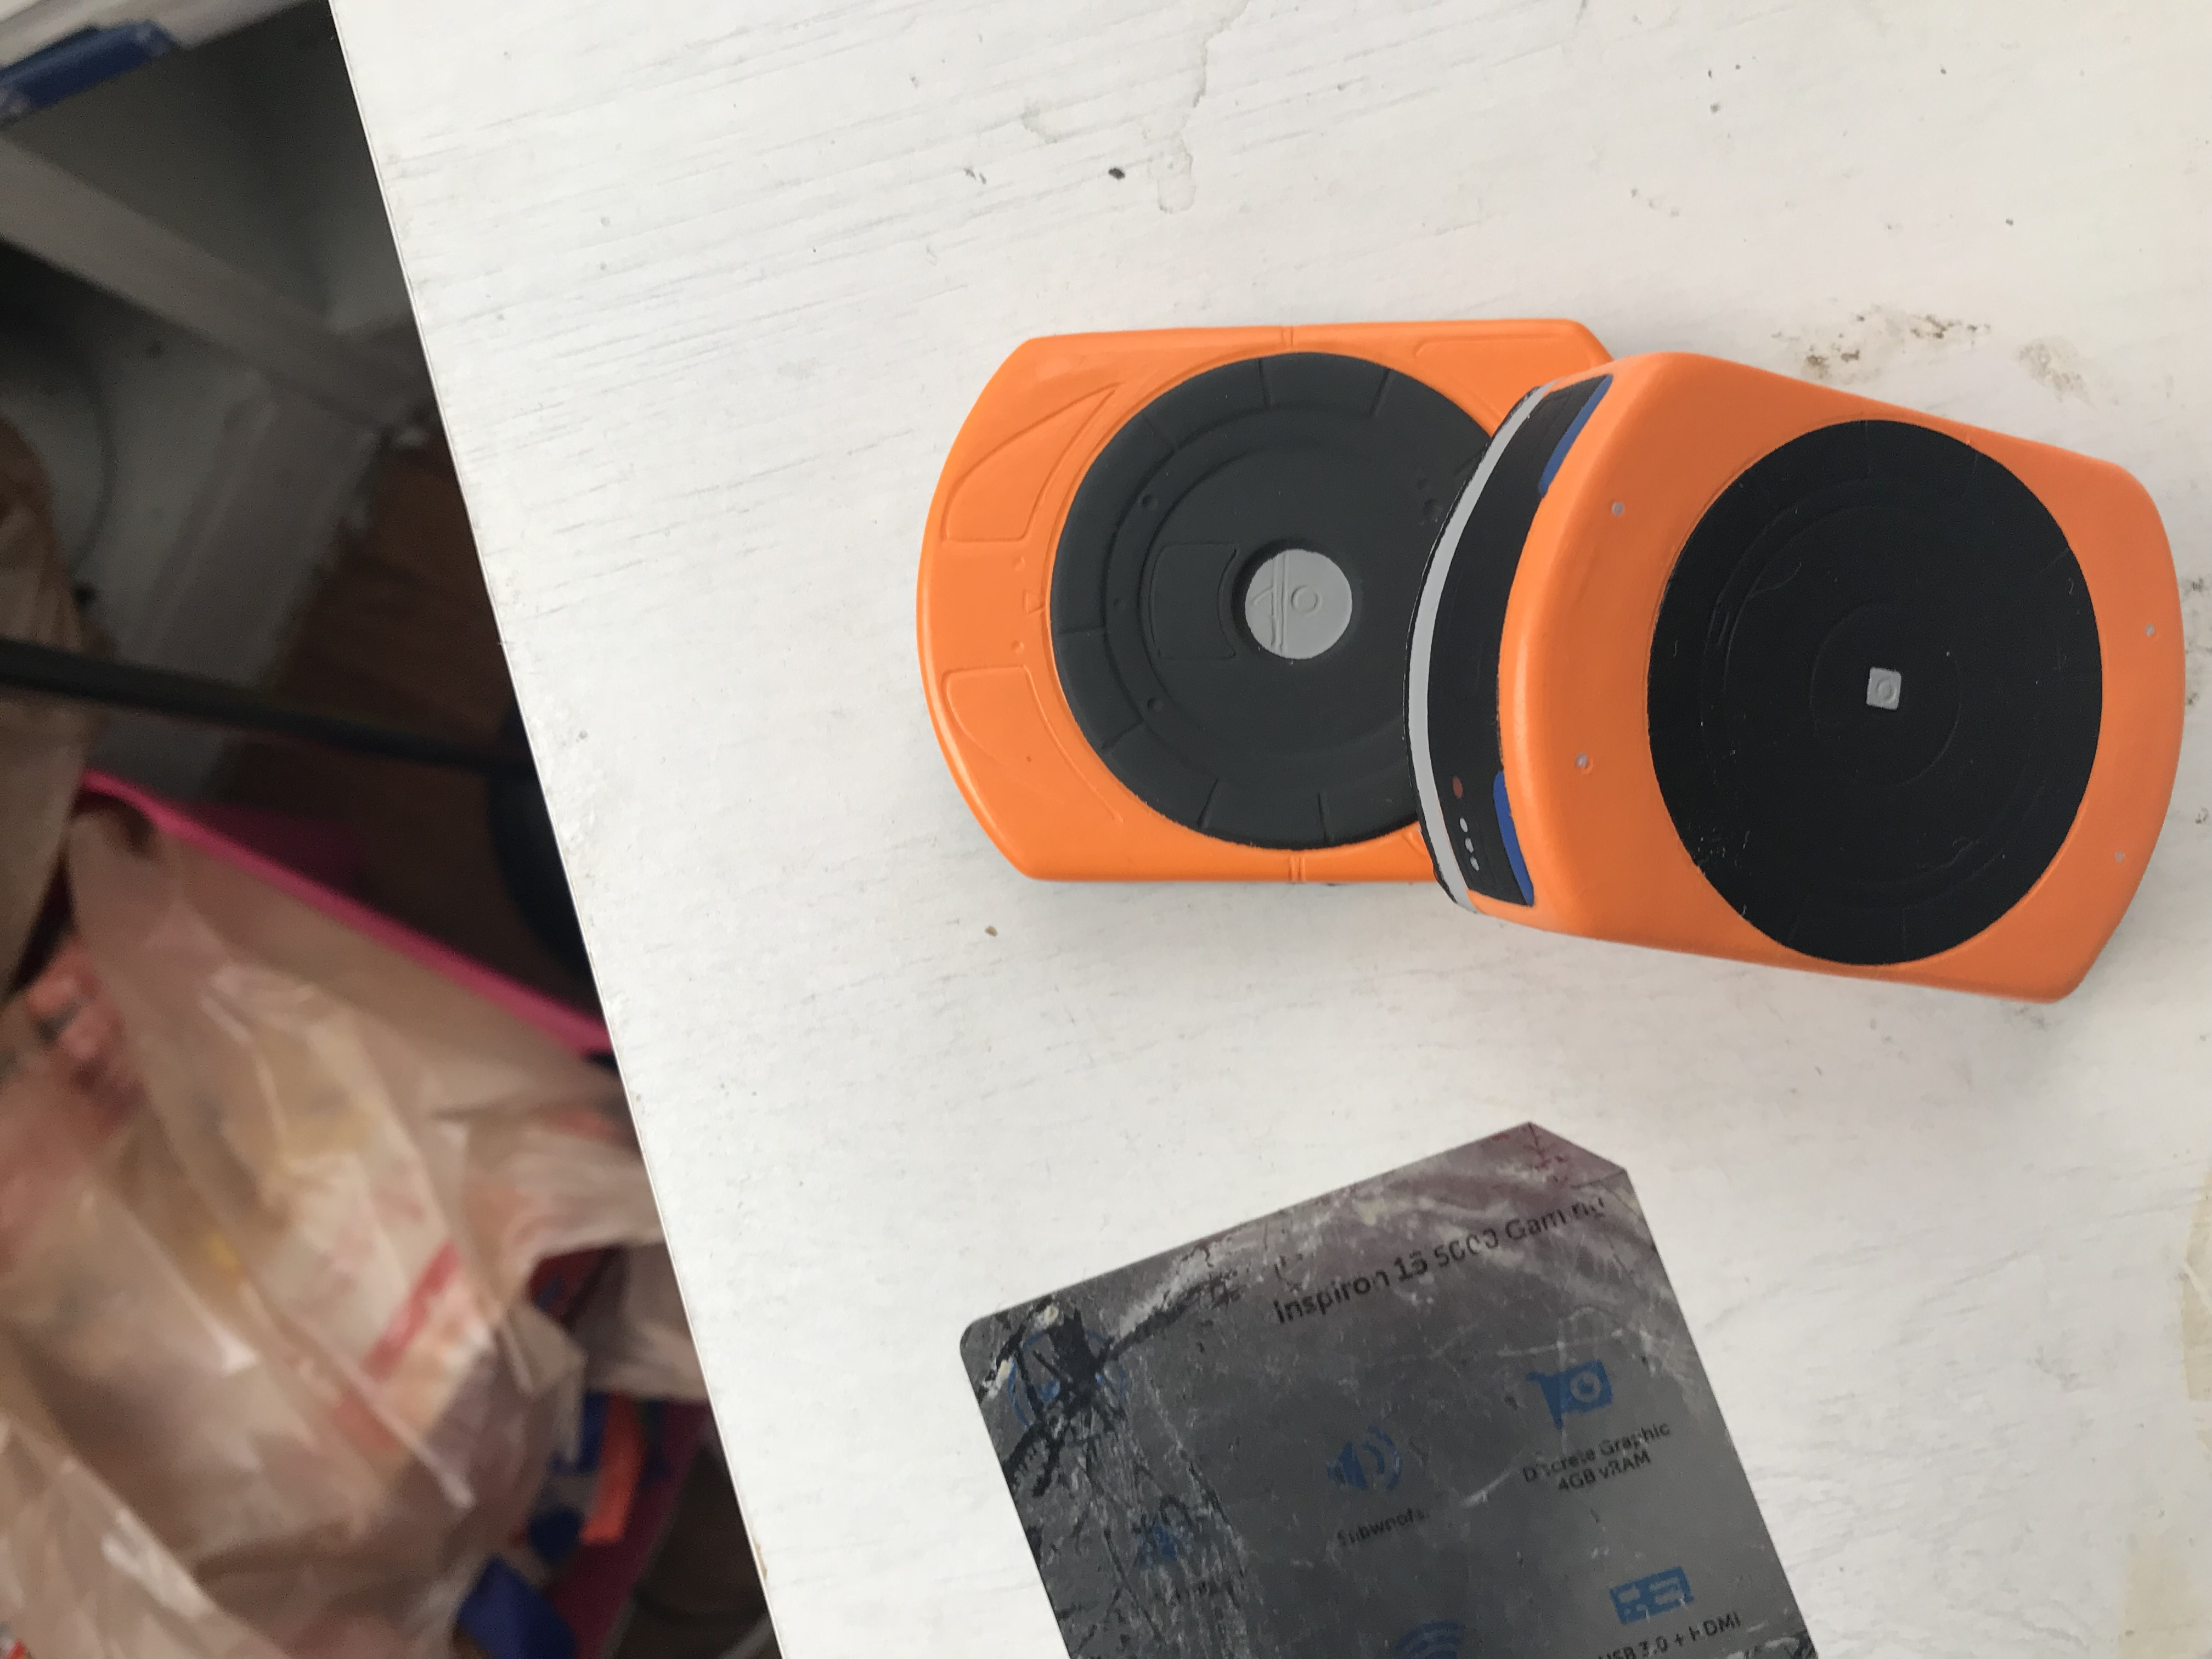amazon_bot: (1393, 349, 2212, 1042), (894, 300, 1620, 943)
